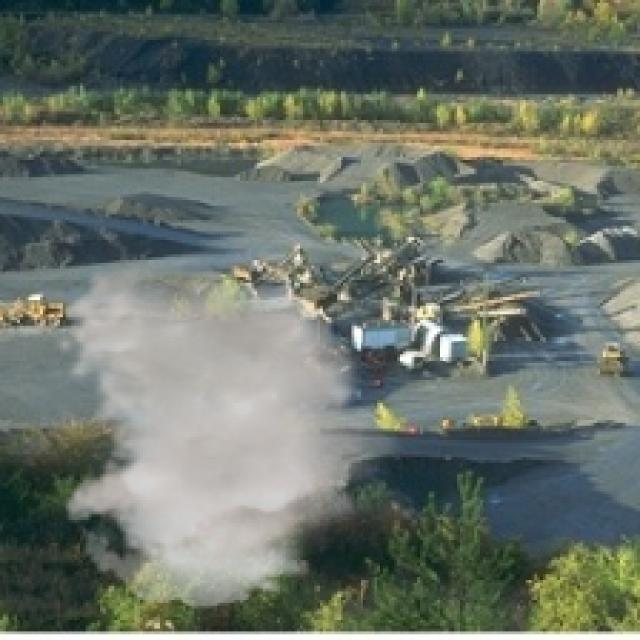smoke: (51, 266, 406, 608)
